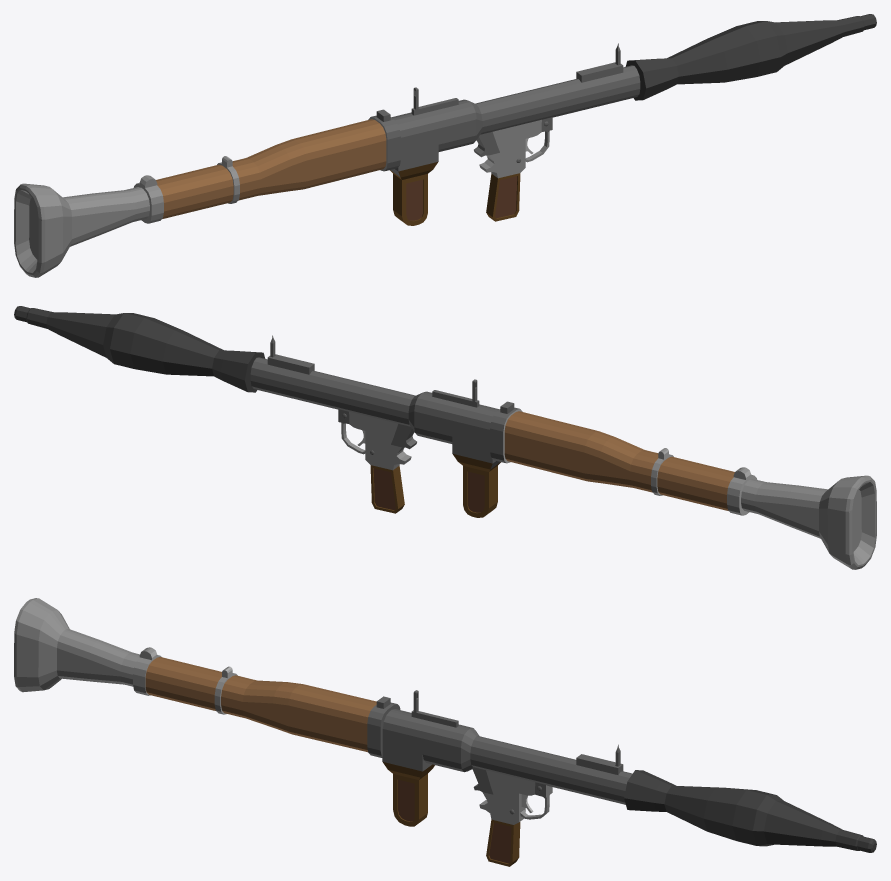
Rendered from rpgarma.fbx.
The picture shows the model from 3 angles, top to bottom: view 1: azimuth 30°, elevation 25°; view 2: azimuth 150°, elevation 25°; view 3: azimuth 330°, elevation 25°; orthographic projection.
Parts seen in each view (by area): view 1: main, head; view 2: main, head; view 3: main, head.
Boxes of the visible parts, x1,y1,x2,y2 form: main: (14,62,640,277); head: (625,14,876,100); main: (250,354,876,569); head: (14,306,265,392); main: (14,598,632,866); head: (624,770,876,852).
Bounding box in the file's own units: 291 × 49.19 × 17.01.
